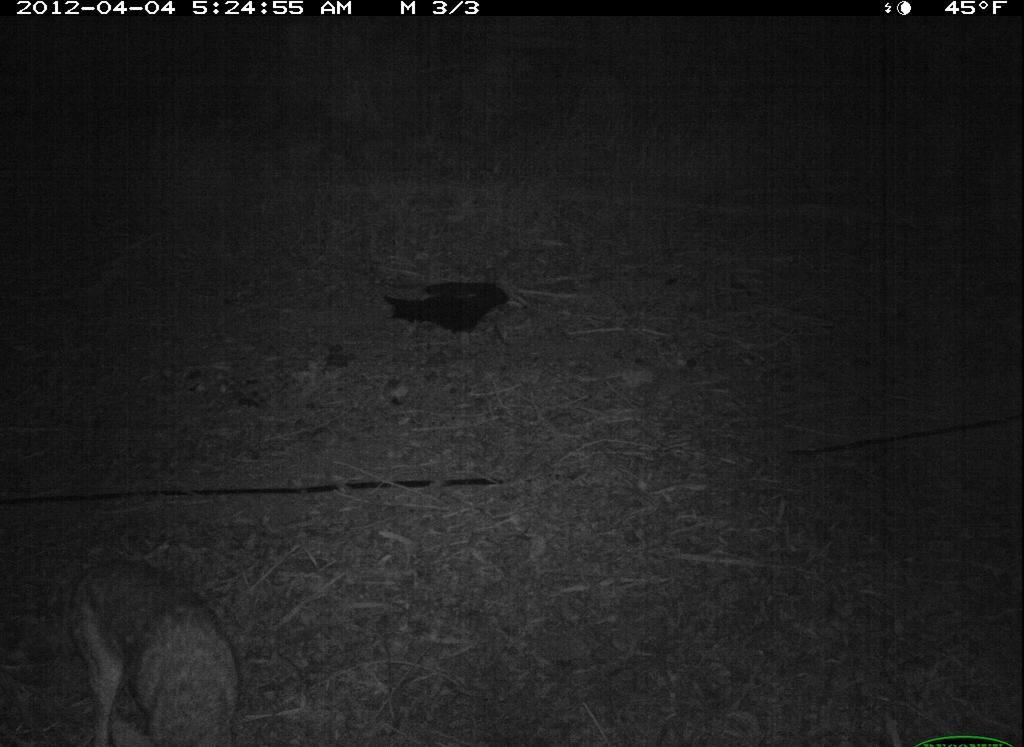coyote: (65, 546, 253, 747)
